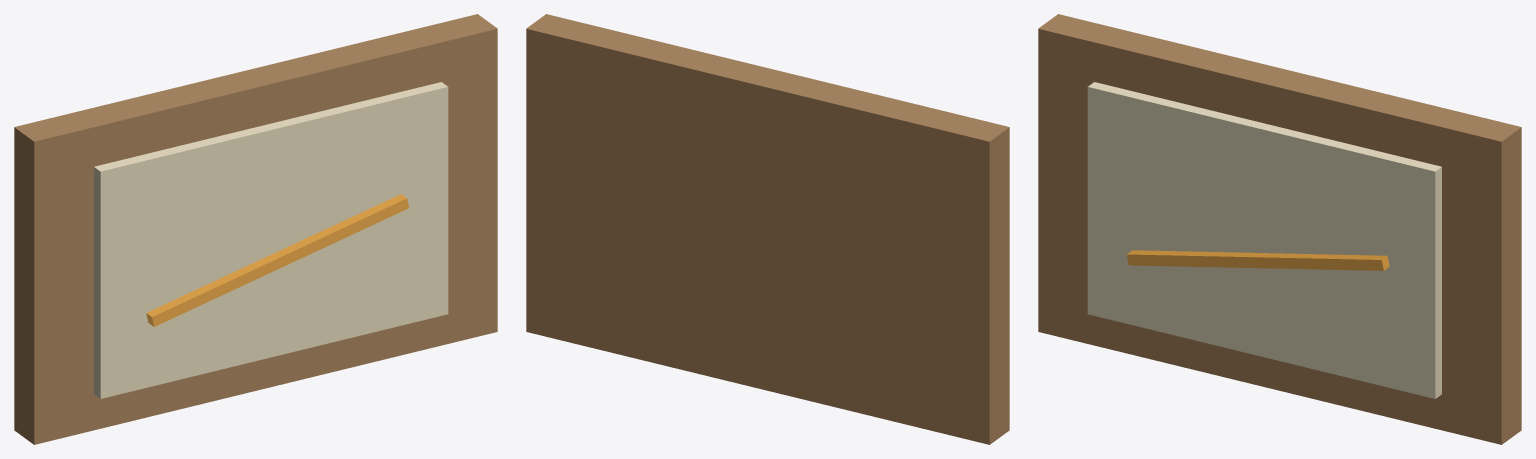
File: hologram_map_table.glb
The picture shows the model from 3 angles, left to right: view 1: azimuth 30°, elevation 25°; view 2: azimuth 150°, elevation 25°; view 3: azimuth 330°, elevation 25°; orthographic projection.
Parts seen in each view (by area): view 1: map_scroll, table, route_line; view 2: table; view 3: map_scroll, table, route_line.
Part boxes in pixels (x1,y1,x2,y2): map_scroll: [94, 82, 448, 398]; table: [14, 14, 497, 444]; route_line: [146, 194, 408, 326]; table: [526, 14, 1009, 444]; map_scroll: [1087, 82, 1441, 398]; table: [1038, 14, 1521, 444]; route_line: [1126, 250, 1389, 270].
Bounding box in the file's own units: 1.6 × 1 × 0.2075.
